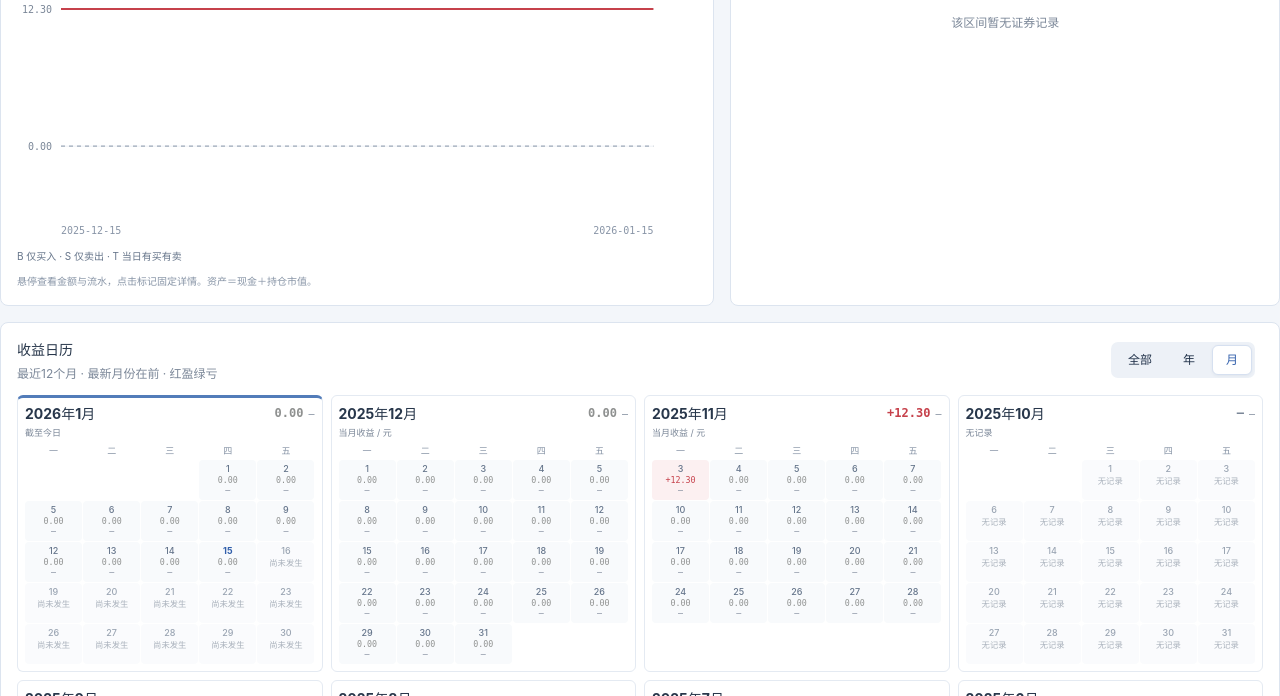
Scenario: 盈亏分析日历 › 全部每格一年，年视图固定十二个月并默认当前年
The width and height of the screenshot is (1280, 696).
(page scrolled)
Click the button "全部". click: {"x": 1140, "y": 360}
box: [1114,345,1166,375]
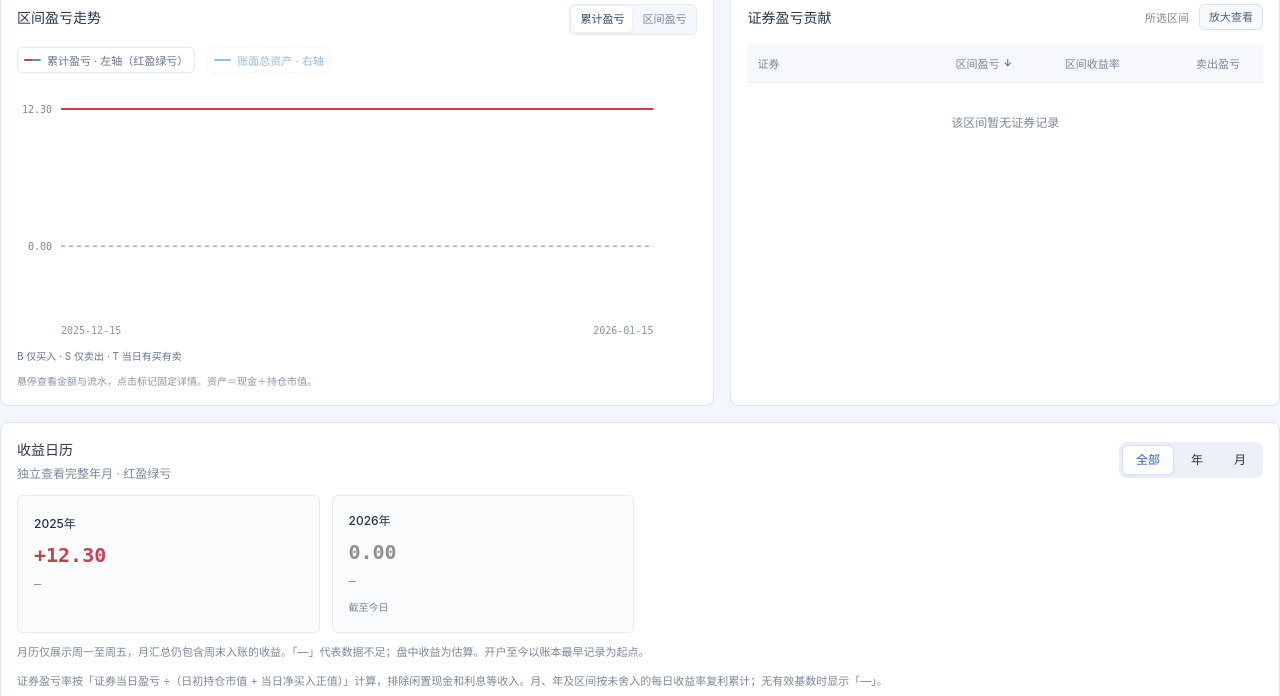
Click the button "年". click: {"x": 1197, "y": 460}
box: [1177,445,1217,475]
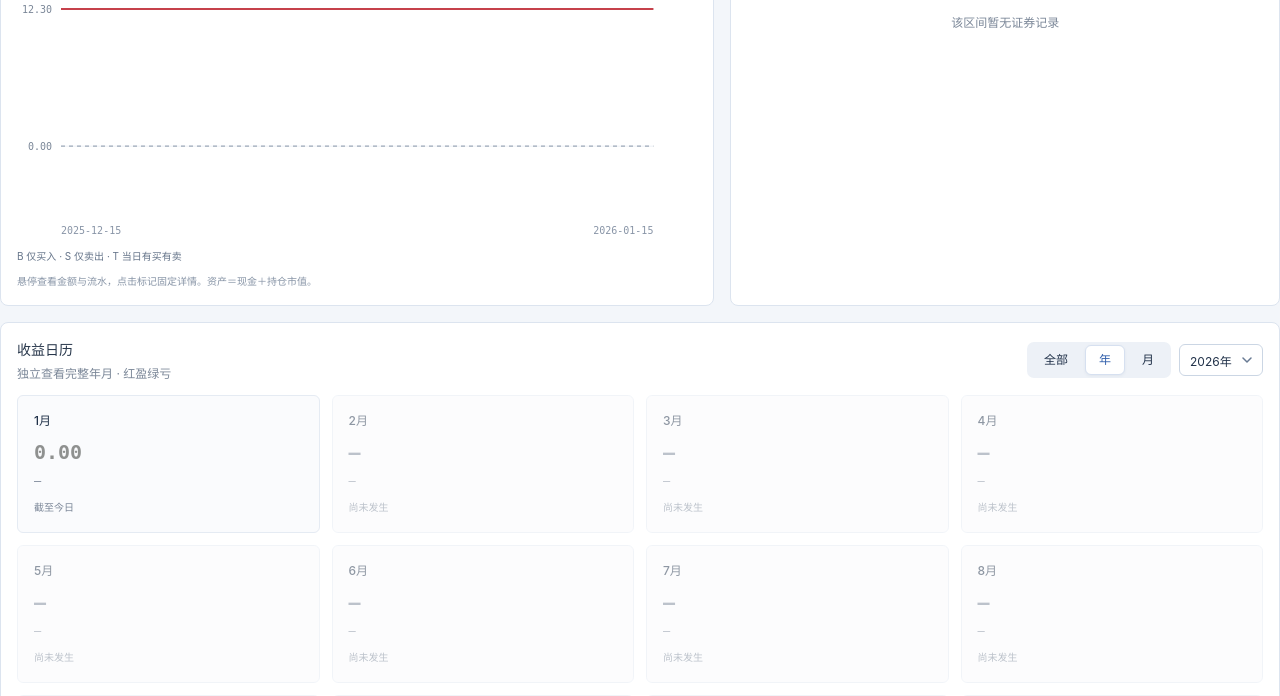
Check: the dropdown shows "2026年", box [1179,344,1263,376]
Check: the button "2月 — — 尚未发生" is shown, box [332,395,634,533]
